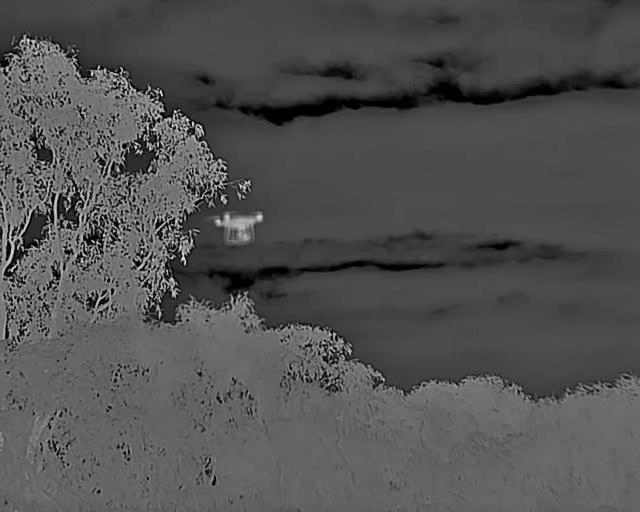DJI-Phantom: (214, 208, 265, 250)
